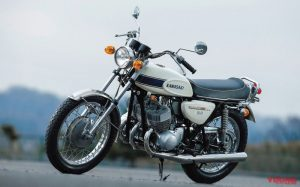motorcycle: (46, 29, 262, 185)
